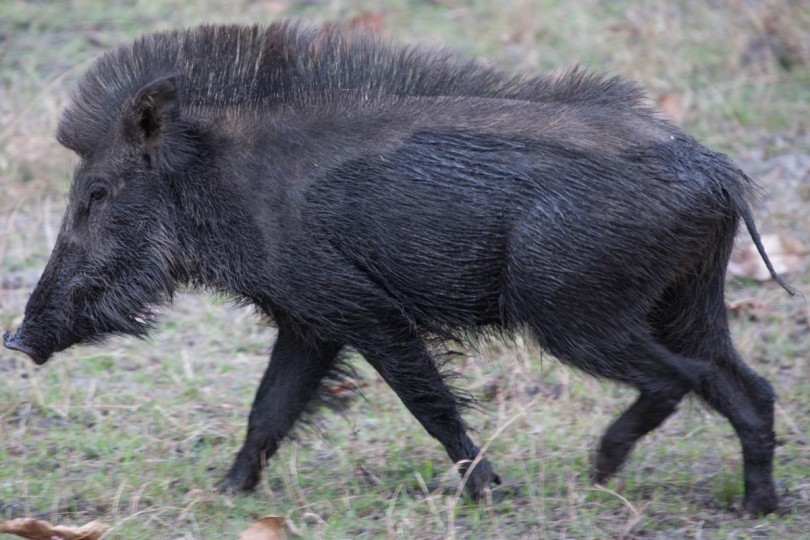wild boar: (6, 23, 791, 524)
